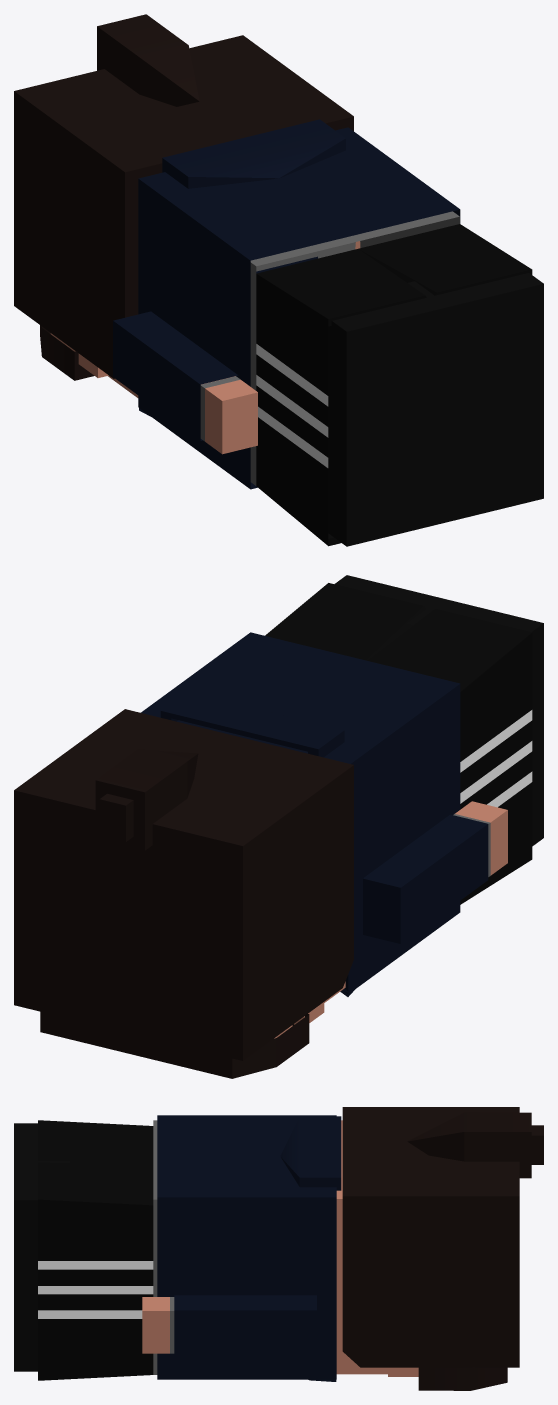
The model's file is SK_MainCharacter_A01.FBX.
3 renders of one model, top to bottom at view 1: azimuth 30°, elevation 25°; view 2: azimuth 150°, elevation 25°; view 3: azimuth 270°, elevation 25°, orthographic. The views are drawn at different scales.
Visible parts, largest first — view 1: Object034; view 2: Object034; view 3: Object034.
Part boxes in pixels (x1,y1,x2,y2): Object034: (14, 14, 543, 546); Object034: (14, 575, 543, 1078); Object034: (14, 1107, 543, 1390).
Size of the model in its own units: 23.16 by 21.53 by 46.29.
